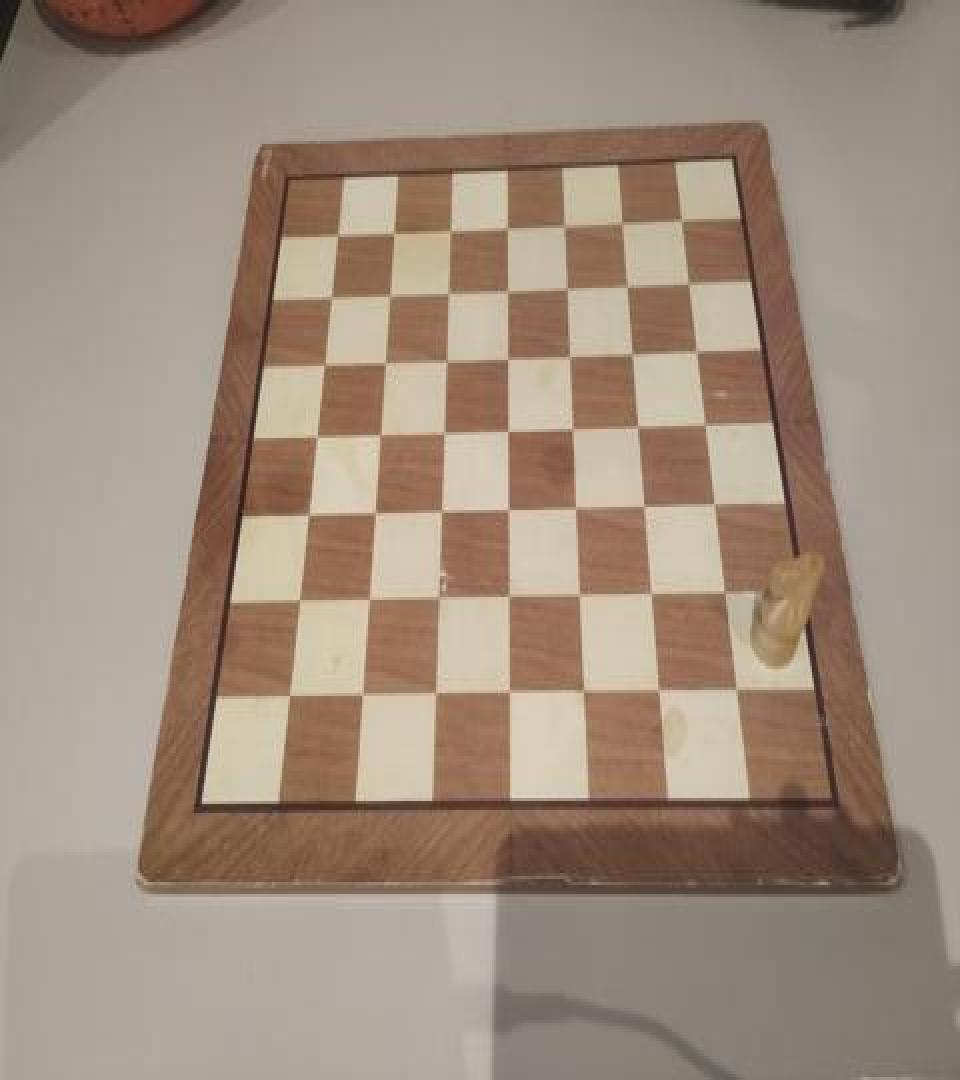xcorner: (363, 499, 383, 530), (277, 684, 297, 714), (423, 681, 443, 711), (497, 680, 517, 710), (573, 680, 593, 710), (649, 678, 669, 708), (726, 676, 746, 706), (287, 588, 307, 618), (427, 585, 447, 615), (497, 584, 517, 614), (641, 579, 661, 609), (714, 578, 734, 608), (297, 501, 317, 531), (430, 496, 450, 526), (497, 495, 517, 525), (565, 492, 585, 522), (634, 490, 654, 520), (704, 488, 724, 518), (306, 422, 326, 452), (369, 418, 389, 448), (433, 417, 453, 447), (497, 414, 517, 444), (562, 411, 582, 441), (628, 410, 648, 440), (694, 406, 714, 436), (313, 348, 333, 378), (374, 346, 394, 376), (435, 344, 455, 374), (497, 340, 517, 370), (559, 338, 579, 368), (622, 334, 642, 364), (685, 332, 705, 362), (321, 282, 341, 312), (379, 279, 399, 309), (438, 276, 458, 306), (497, 273, 517, 303), (556, 270, 576, 300), (617, 267, 637, 297), (678, 264, 698, 294), (327, 220, 347, 250), (383, 218, 403, 248), (440, 214, 460, 244), (497, 212, 517, 242), (554, 207, 574, 237), (612, 204, 632, 234), (670, 201, 690, 231), (350, 683, 370, 712), (357, 587, 377, 616), (569, 581, 589, 610)
